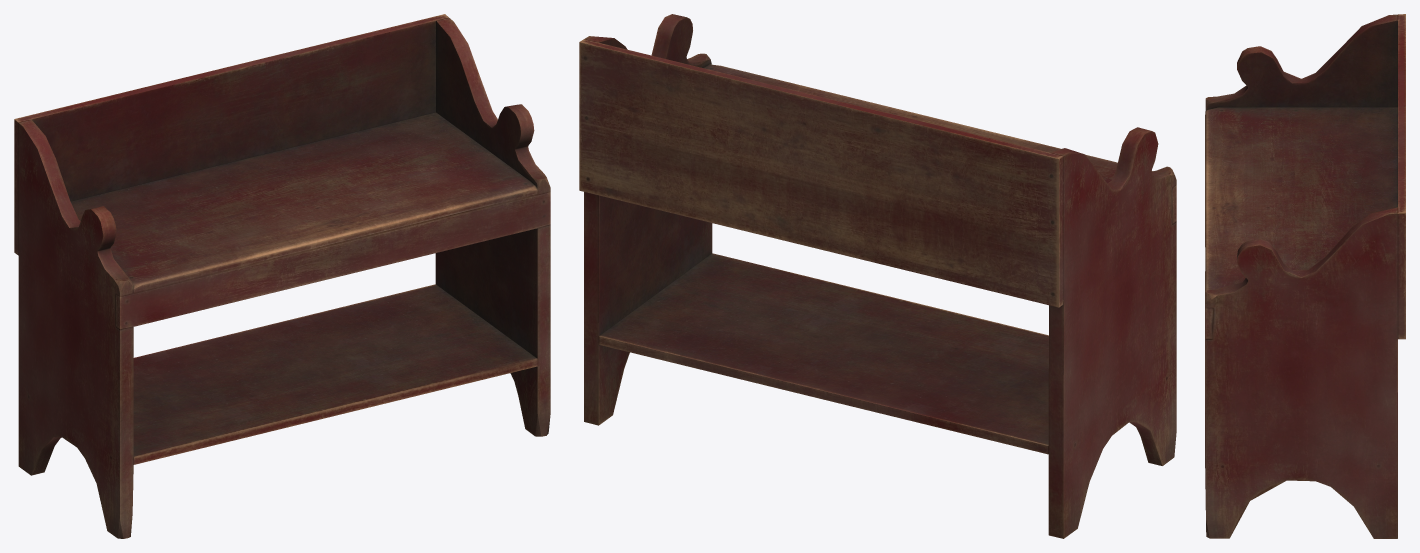
File: painted_wooden_bench_lod1.glb
3 renders of one model, left to right at view 1: azimuth 30°, elevation 25°; view 2: azimuth 150°, elevation 25°; view 3: azimuth 270°, elevation 25°, orthographic. The views are drawn at different scales.
Parts seen in each view (by area): view 1: painted_wooden_bench; view 2: painted_wooden_bench; view 3: painted_wooden_bench.
Part boxes in pixels (bbox=[...]): painted_wooden_bench: bbox=[14, 14, 550, 538]; painted_wooden_bench: bbox=[579, 14, 1176, 538]; painted_wooden_bench: bbox=[1205, 14, 1405, 538].
Size of the model in its own units: 1.16 by 0.8893 by 0.4965.
Materials: 1 (1 with a texture image).
